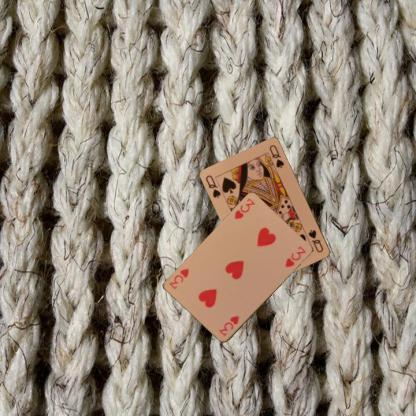3h: (232, 195, 256, 222), (217, 313, 240, 338)
Qs: (306, 227, 324, 254), (204, 173, 222, 199)
